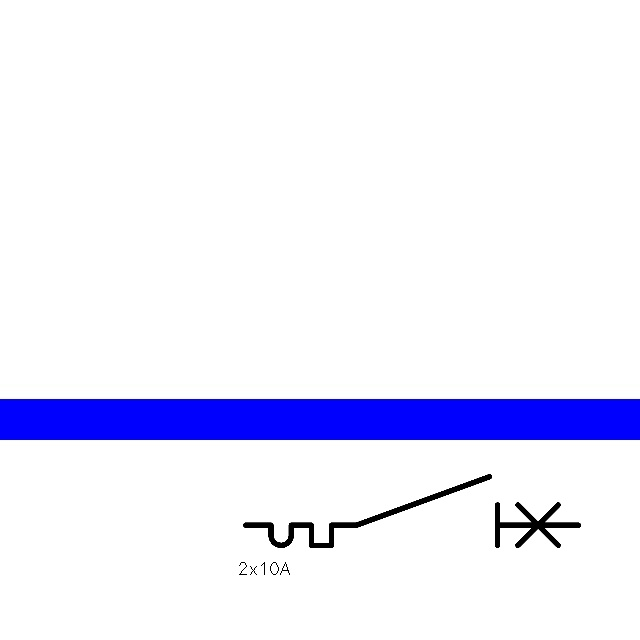interruptor_termomagnetico: (237, 468, 587, 554)
